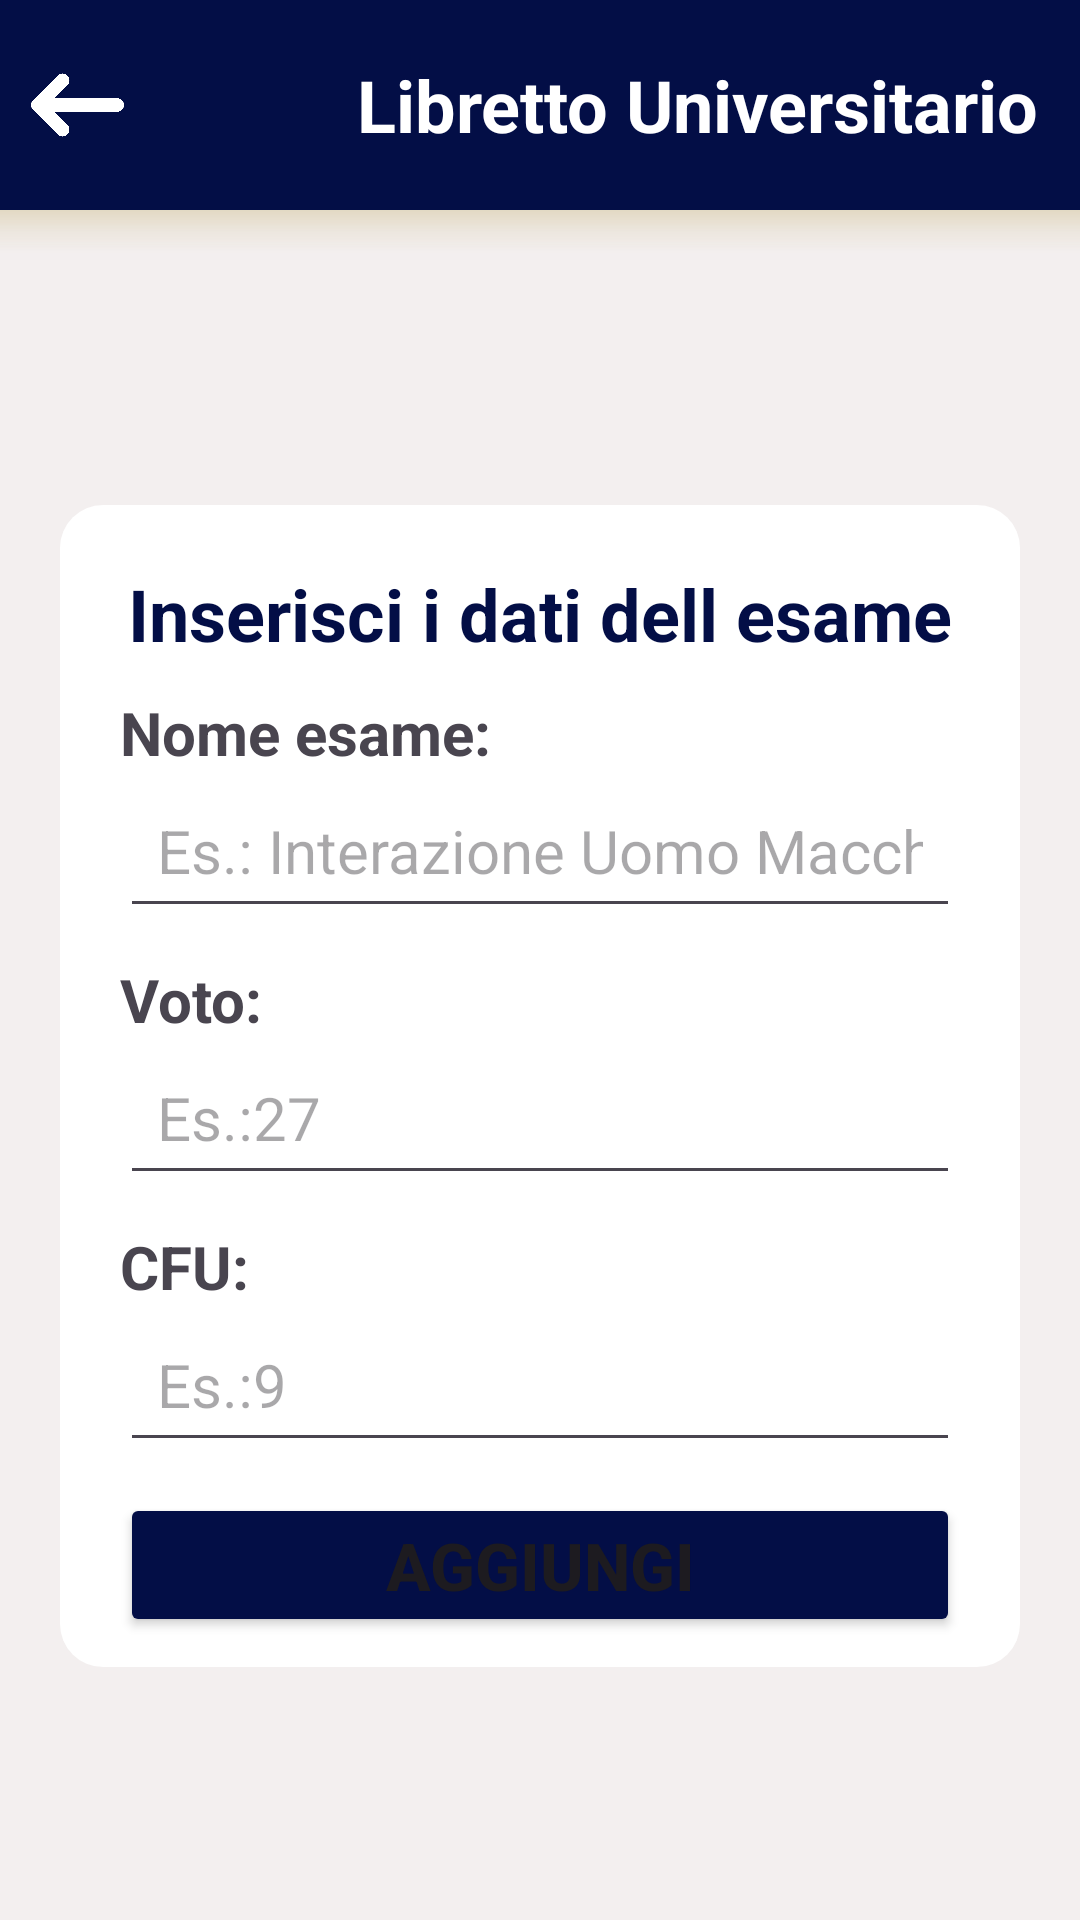

Named icons in this screenshot (1080px×1920px) and their centers, [x,y]:
indietro: [77,105]
